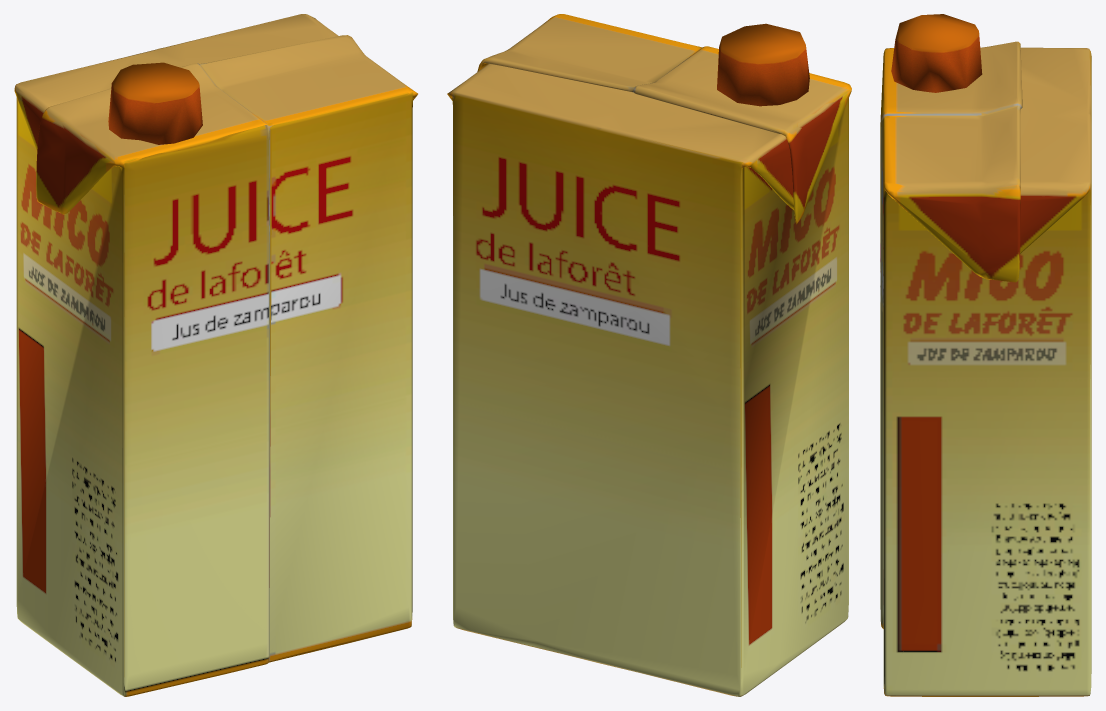
File: juicepack.gltf
3 views of the same model, side by side, from view 1: azimuth 30°, elevation 25°; view 2: azimuth 150°, elevation 25°; view 3: azimuth 270°, elevation 25° (orthographic). The views are drawn at different scales.
Parts seen in each view (by area): view 1: JuicePack, Cap_50_Tris; view 2: JuicePack, Cap_50_Tris; view 3: JuicePack, Cap_50_Tris.
Part boxes in pixels (bbox=[...]): JuicePack: bbox=[14, 14, 417, 696]; Cap_50_Tris: bbox=[108, 62, 202, 144]; JuicePack: bbox=[447, 14, 851, 696]; Cap_50_Tris: bbox=[717, 23, 809, 106]; JuicePack: bbox=[880, 41, 1091, 696]; Cap_50_Tris: bbox=[891, 14, 982, 92].
Size of the model in its own units: 0.1084 by 0.1868 by 0.0639.
Materials: 2 (2 with a texture image).
